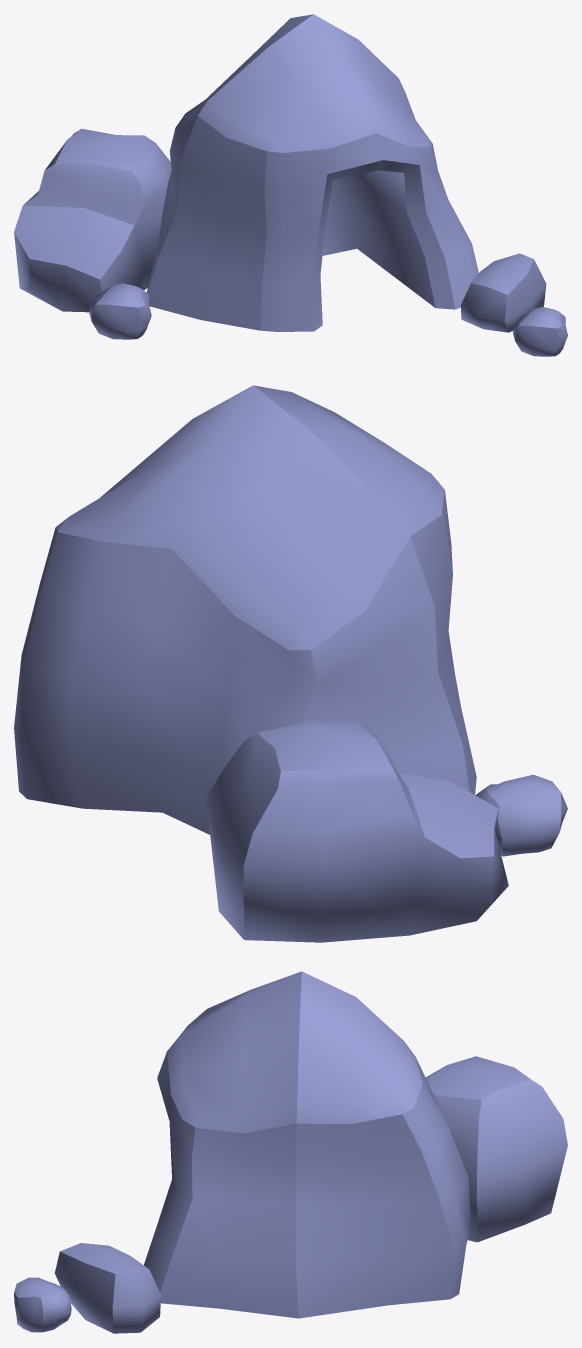
File: Bad_tower.fbx
3 views of the same model, one above another, from view 1: azimuth 30°, elevation 25°; view 2: azimuth 150°, elevation 25°; view 3: azimuth 270°, elevation 25° (orthographic). The views are drawn at different scales.
Visible parts, largest first — view 1: Cube.047; view 2: Cube.047; view 3: Cube.047.
Part boxes in pixels (x1,y1,x2,y2): Cube.047: (14,14,567,356); Cube.047: (14,385,567,942); Cube.047: (14,971,567,1333).
Size of the model in its own units: 677 by 486 by 808.
